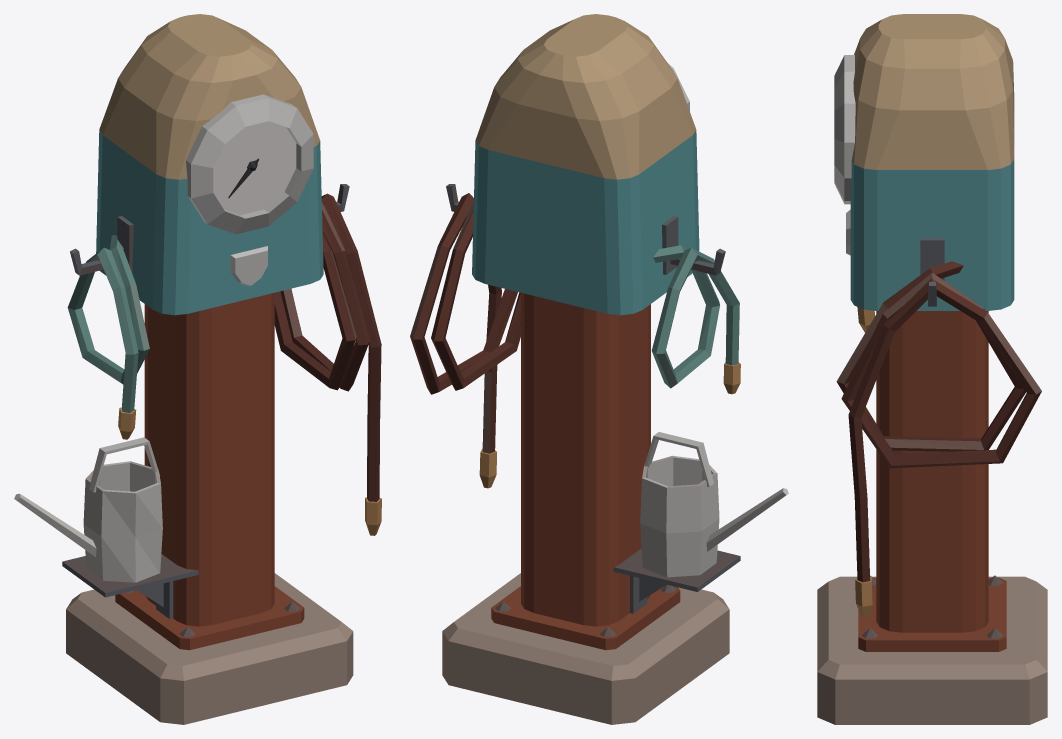
File: air-and-water-post-44487a.glb
3 views of the same model, side by side, from view 1: azimuth 30°, elevation 25°; view 2: azimuth 150°, elevation 25°; view 3: azimuth 270°, elevation 25° (orthographic). The views are drawn at different scales.
Parts seen in each view (by area): view 1: post, air-hose-mesh, water-can-mesh, water-hose-mesh; view 2: post, water-can-mesh, air-hose-mesh, water-hose-mesh; view 3: post, air-hose-mesh.
Part boxes in pixels (left/top/right/bottom): post: left=62, top=14, right=353, bottom=724; air-hose-mesh: left=274, top=193, right=381, bottom=535; water-can-mesh: left=14, top=437, right=162, bottom=582; water-hose-mesh: left=67, top=235, right=149, bottom=439; post: left=442, top=14, right=740, bottom=724; water-can-mesh: left=640, top=432, right=788, bottom=577; air-hose-mesh: left=410, top=193, right=520, bottom=488; water-hose-mesh: left=651, top=245, right=740, bottom=394; post: left=817, top=14, right=1047, bottom=724; air-hose-mesh: left=836, top=261, right=1041, bottom=617.
Bounding box in the file's own units: 0.7835 × 1.4 × 0.45.
